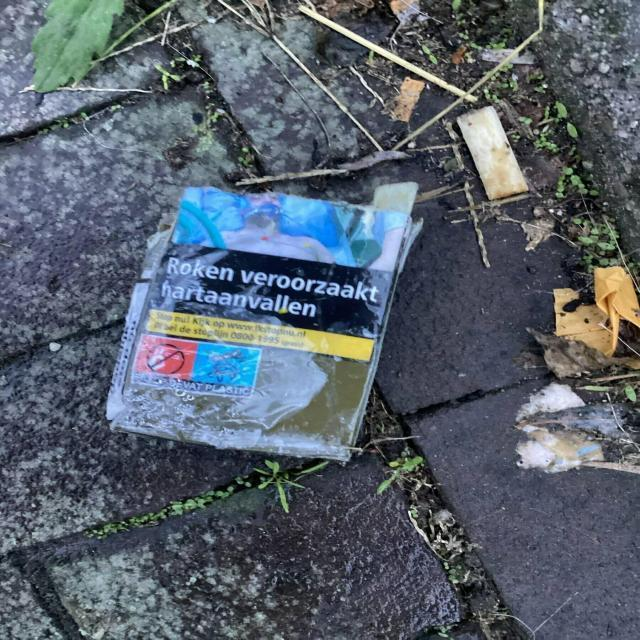Paper: (92, 177, 428, 465)
